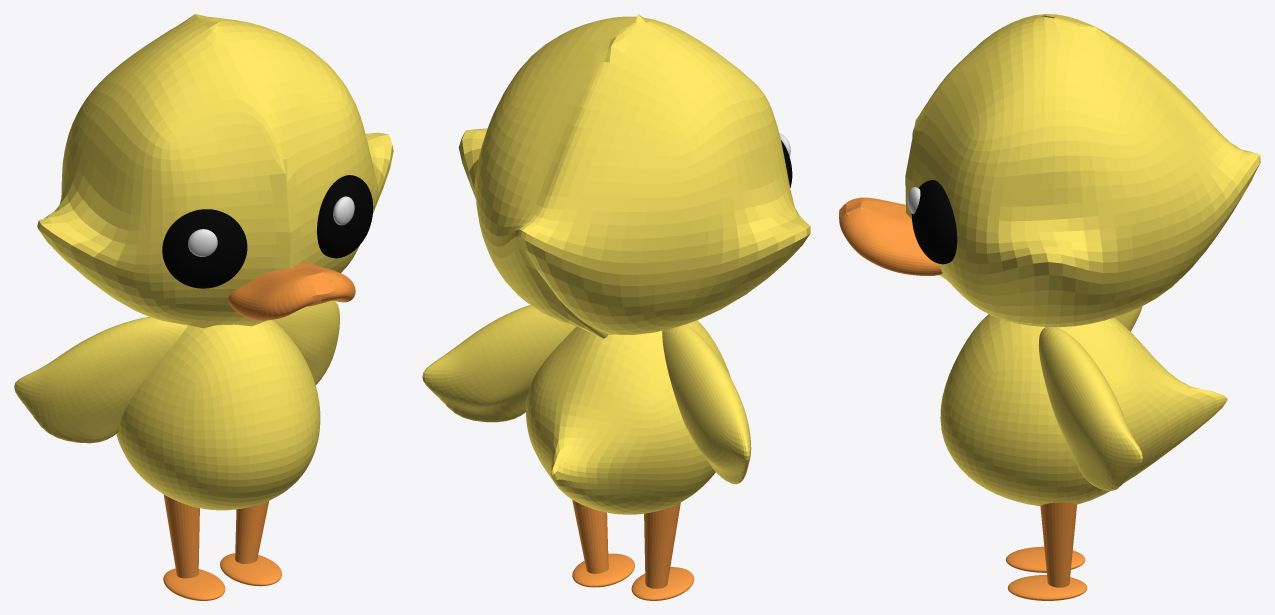
Rendered from Duck.fbx.
3 views of the same model, side by side, from view 1: azimuth 30°, elevation 25°; view 2: azimuth 150°, elevation 25°; view 3: azimuth 270°, elevation 25° (orthographic).
Parts seen in each view (by area): view 1: Roundcube.001, Roundcube.002, Roundcube.003, Roundcube.007, Roundcube.010, Roundcube.008, Roundcube.006, Cylinder, Cylinder.001, Roundcube.004, Roundcube.005, Roundcube.009 (+1 smaller); view 2: Roundcube.001, Roundcube.002, Roundcube.006, Roundcube.003, Cylinder, Cylinder.001, Roundcube.005, Roundcube.004; view 3: Roundcube.001, Roundcube.002, Roundcube.006, Roundcube.007, Roundcube.008, Cylinder.001, Roundcube.005, Roundcube.004.
Part boxes in pixels (x1,y1,x2,y2): Roundcube.001: (37, 14, 393, 328); Roundcube.002: (116, 320, 320, 510); Roundcube.003: (14, 316, 187, 443); Roundcube.007: (228, 262, 355, 320); Roundcube.010: (162, 209, 247, 288); Roundcube.008: (317, 175, 373, 258); Roundcube.006: (273, 300, 339, 384); Cylinder: (163, 495, 199, 578); Cylinder.001: (235, 501, 268, 563); Roundcube.004: (163, 568, 225, 600); Roundcube.005: (220, 553, 281, 586); Roundcube.009: (188, 229, 217, 256); Roundcube.001: (458, 14, 810, 338); Roundcube.002: (526, 320, 730, 514); Roundcube.006: (422, 305, 576, 422); Roundcube.003: (662, 324, 751, 484); Cylinder: (644, 502, 680, 588); Cylinder.001: (572, 500, 608, 573); Roundcube.005: (572, 553, 634, 587); Roundcube.004: (631, 567, 694, 600); Roundcube.001: (905, 14, 1260, 327); Roundcube.002: (940, 314, 1227, 505); Roundcube.006: (1038, 327, 1142, 490); Roundcube.007: (839, 197, 942, 275); Roundcube.008: (911, 180, 957, 264); Cylinder.001: (1040, 502, 1076, 587); Roundcube.005: (1007, 575, 1087, 600); Roundcube.004: (1006, 546, 1085, 572).
Bounding box in the file's own units: 233 × 362 × 246.
